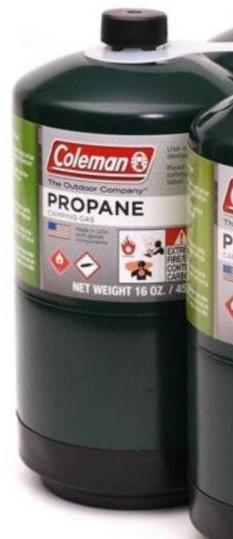cylinder: (1, 0, 233, 539)
